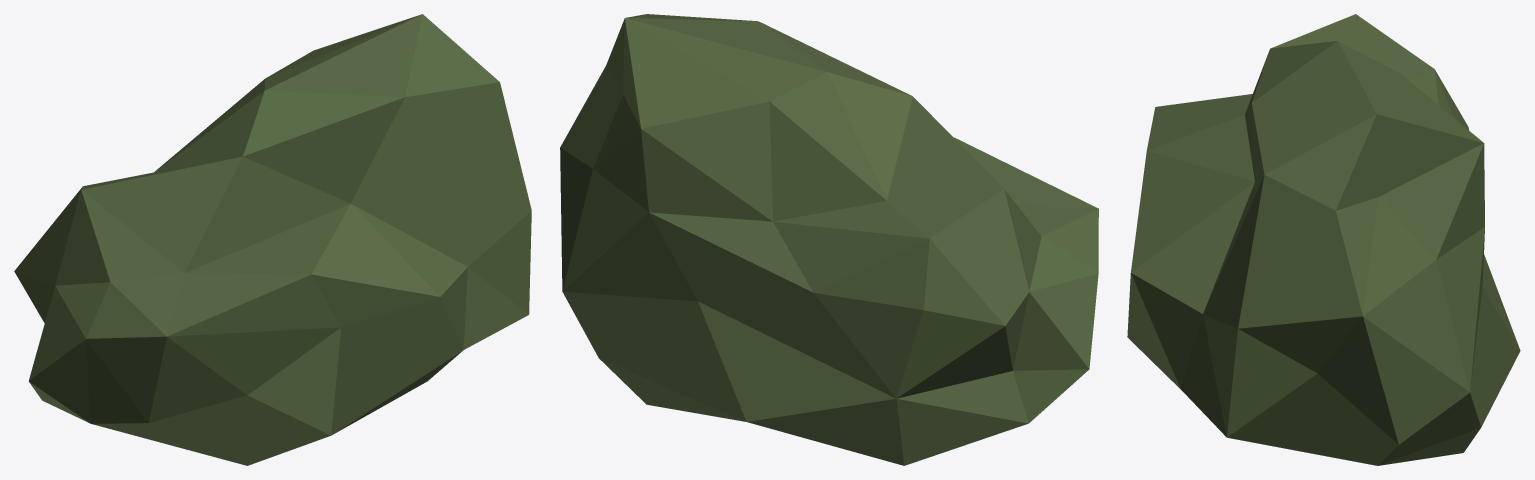
Rendered from SM_Envr_Nature_Plant_Bush_02.fbx.
3 views of the same model, side by side, from view 1: azimuth 30°, elevation 25°; view 2: azimuth 150°, elevation 25°; view 3: azimuth 270°, elevation 25° (orthographic). The views are drawn at different scales.
Parts seen in each view (by area): view 1: SM_Envr_Nature_Plant_Bush_02; view 2: SM_Envr_Nature_Plant_Bush_02; view 3: SM_Envr_Nature_Plant_Bush_02.
Boxes of the visible parts, box(x1,y1,x2,y2) form: SM_Envr_Nature_Plant_Bush_02: box(14, 14, 531, 465); SM_Envr_Nature_Plant_Bush_02: box(560, 14, 1098, 465); SM_Envr_Nature_Plant_Bush_02: box(1127, 14, 1520, 465).
Size of the model in its own units: 186 by 119 by 114.
